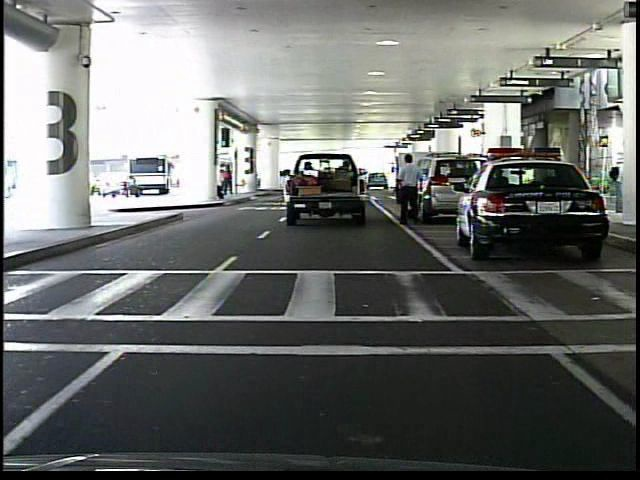person: (392, 152, 431, 229), (222, 160, 237, 200)
